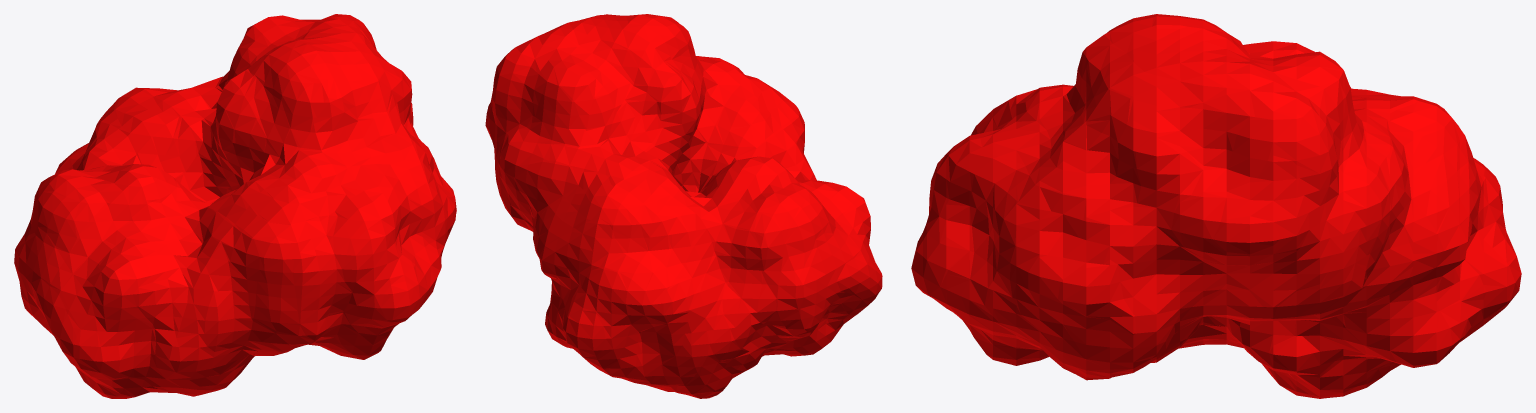
File: yfcE_coarse.dae
3 views of the same model, side by side, from view 1: azimuth 30°, elevation 25°; view 2: azimuth 150°, elevation 25°; view 3: azimuth 270°, elevation 25° (orthographic). The views are drawn at different scales.
Visible parts, largest first — view 1: yfcE; view 2: yfcE; view 3: yfcE.
Part boxes in pixels (x1,y1,x2,y2): yfcE: (14,14,456,398); yfcE: (485,14,882,398); yfcE: (911,14,1521,398).
Bounding box in the file's own units: 79.37 × 65.97 × 84.69.
